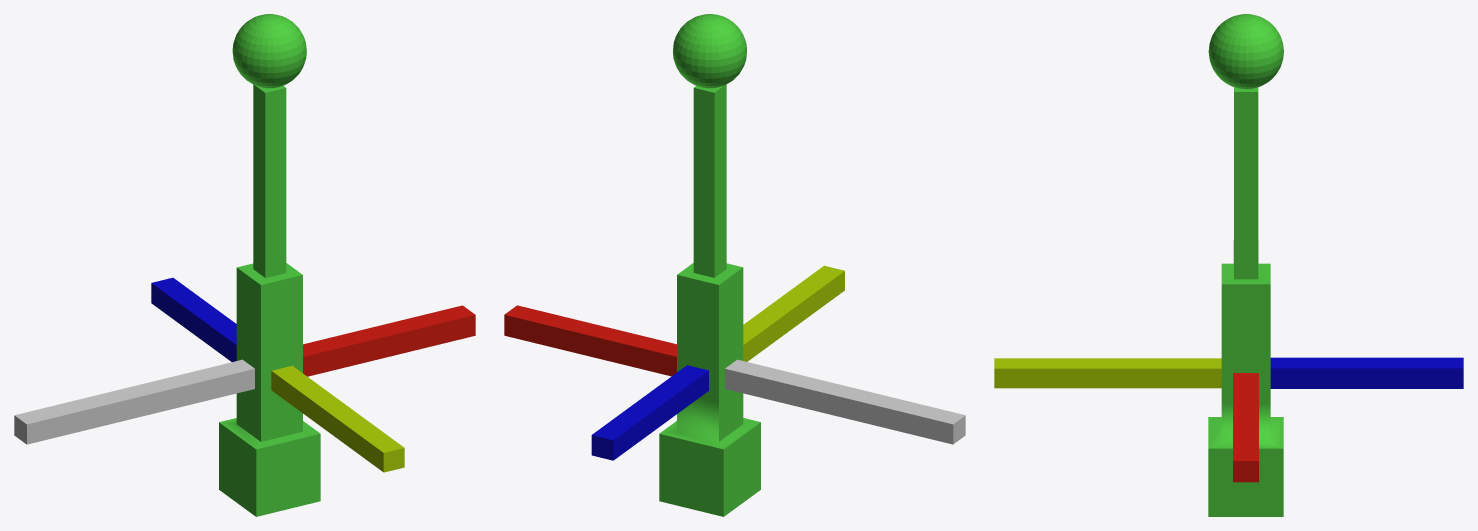
The model's file is contraption.obj.
The picture shows the model from 3 angles, left to right: view 1: azimuth 30°, elevation 25°; view 2: azimuth 150°, elevation 25°; view 3: azimuth 270°, elevation 25°; orthographic projection.
Visible parts, largest first — view 1: Cube_Cube.005_Default_OBJ, Cube_Cube.004_Material.005, Cube_Cube.001_Material.001, Cube_Cube.003_Material.003, Cube_Cube.002_Material.002; view 2: Cube_Cube.005_Default_OBJ, Cube_Cube.004_Material.005, Cube_Cube.001_Material.001, Cube_Cube.002_Material.002, Cube_Cube.003_Material.003; view 3: Cube_Cube.005_Default_OBJ, Cube_Cube.003_Material.003, Cube_Cube.002_Material.002, Cube_Cube.001_Material.001.
Part boxes in pixels (x1,y1,x2,y2): Cube_Cube.005_Default_OBJ: (219,14,320,516); Cube_Cube.004_Material.005: (14,359,254,444); Cube_Cube.001_Material.001: (303,305,475,376); Cube_Cube.003_Material.003: (271,365,404,472); Cube_Cube.002_Material.002: (151,277,236,361); Cube_Cube.005_Default_OBJ: (659,14,760,516); Cube_Cube.004_Material.005: (725,359,965,444); Cube_Cube.001_Material.001: (504,305,676,376); Cube_Cube.002_Material.002: (591,365,708,460); Cube_Cube.003_Material.003: (743,265,844,361); Cube_Cube.005_Default_OBJ: (1208,14,1283,516); Cube_Cube.003_Material.003: (994,358,1221,388); Cube_Cube.002_Material.002: (1270,357,1463,388); Cube_Cube.001_Material.001: (1233,373,1258,482).
Bounding box in the file's own units: 13.91 × 14.16 × 12.46.
